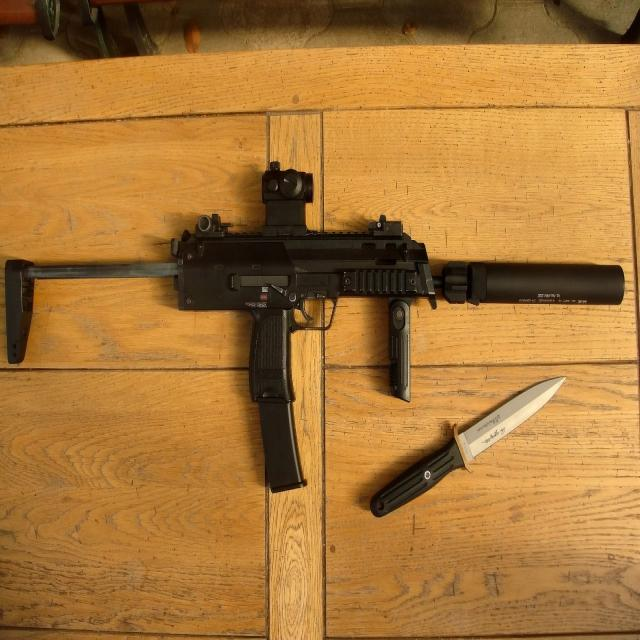firearm: (2, 162, 626, 489)
knife: (366, 372, 567, 522)
